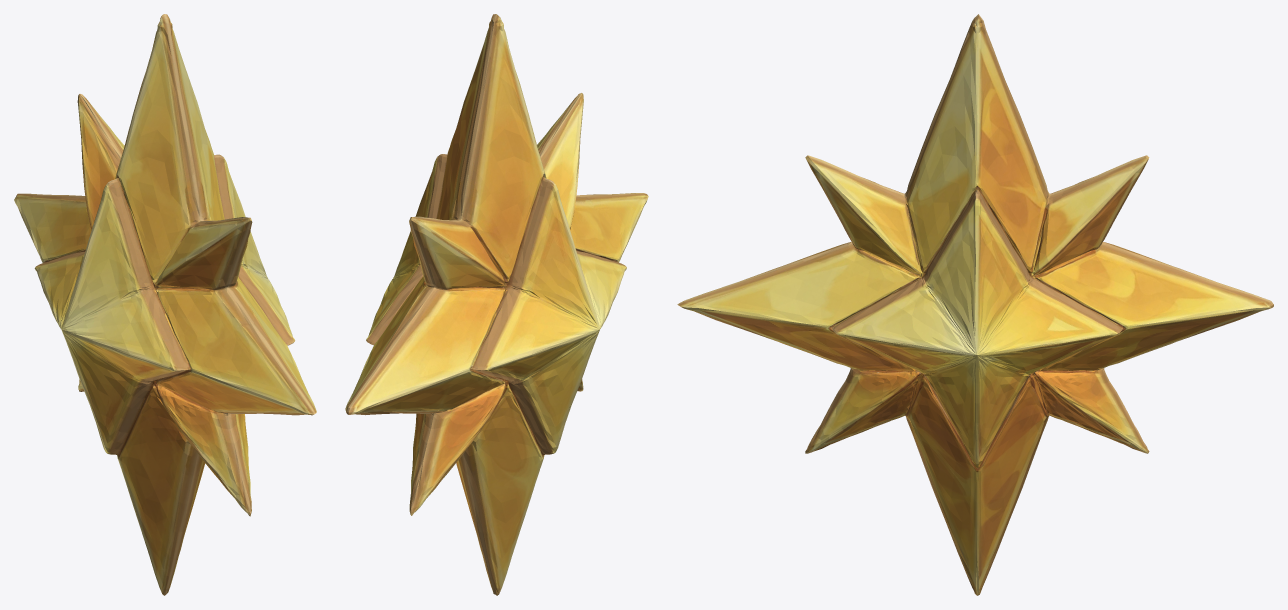
Rendered from Estrella.glb.
3 views of the same model, side by side, from view 1: azimuth 30°, elevation 25°; view 2: azimuth 150°, elevation 25°; view 3: azimuth 270°, elevation 25° (orthographic).
Visible parts, largest first — view 1: tripo_node_e101a72f-bfc1-4a96-bd23-d72e991c785a; view 2: tripo_node_e101a72f-bfc1-4a96-bd23-d72e991c785a; view 3: tripo_node_e101a72f-bfc1-4a96-bd23-d72e991c785a.
Part boxes in pixels (box(x1,y1,x2,y2)): tripo_node_e101a72f-bfc1-4a96-bd23-d72e991c785a: box(14, 14, 316, 595); tripo_node_e101a72f-bfc1-4a96-bd23-d72e991c785a: box(345, 14, 648, 595); tripo_node_e101a72f-bfc1-4a96-bd23-d72e991c785a: box(677, 14, 1273, 595).
Size of the model in its own units: 0.126 by 0.339 by 0.315.
1 material, 1 textured.
